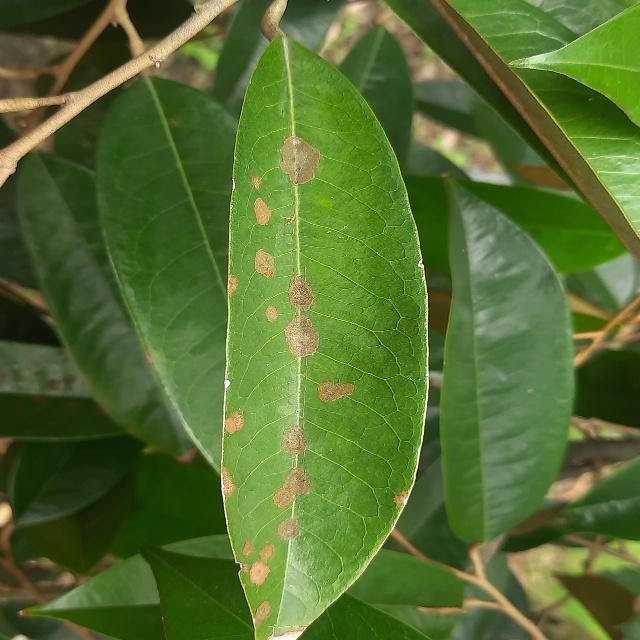Algal Leaf Spot: (213, 29, 438, 640)
